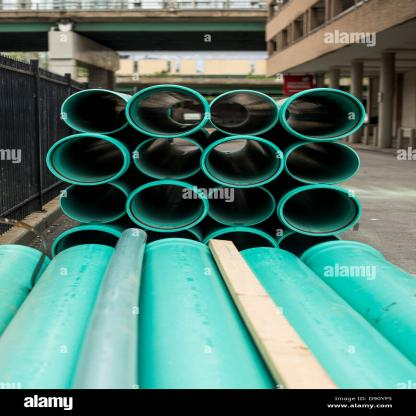PVC: (0, 82, 416, 390)
